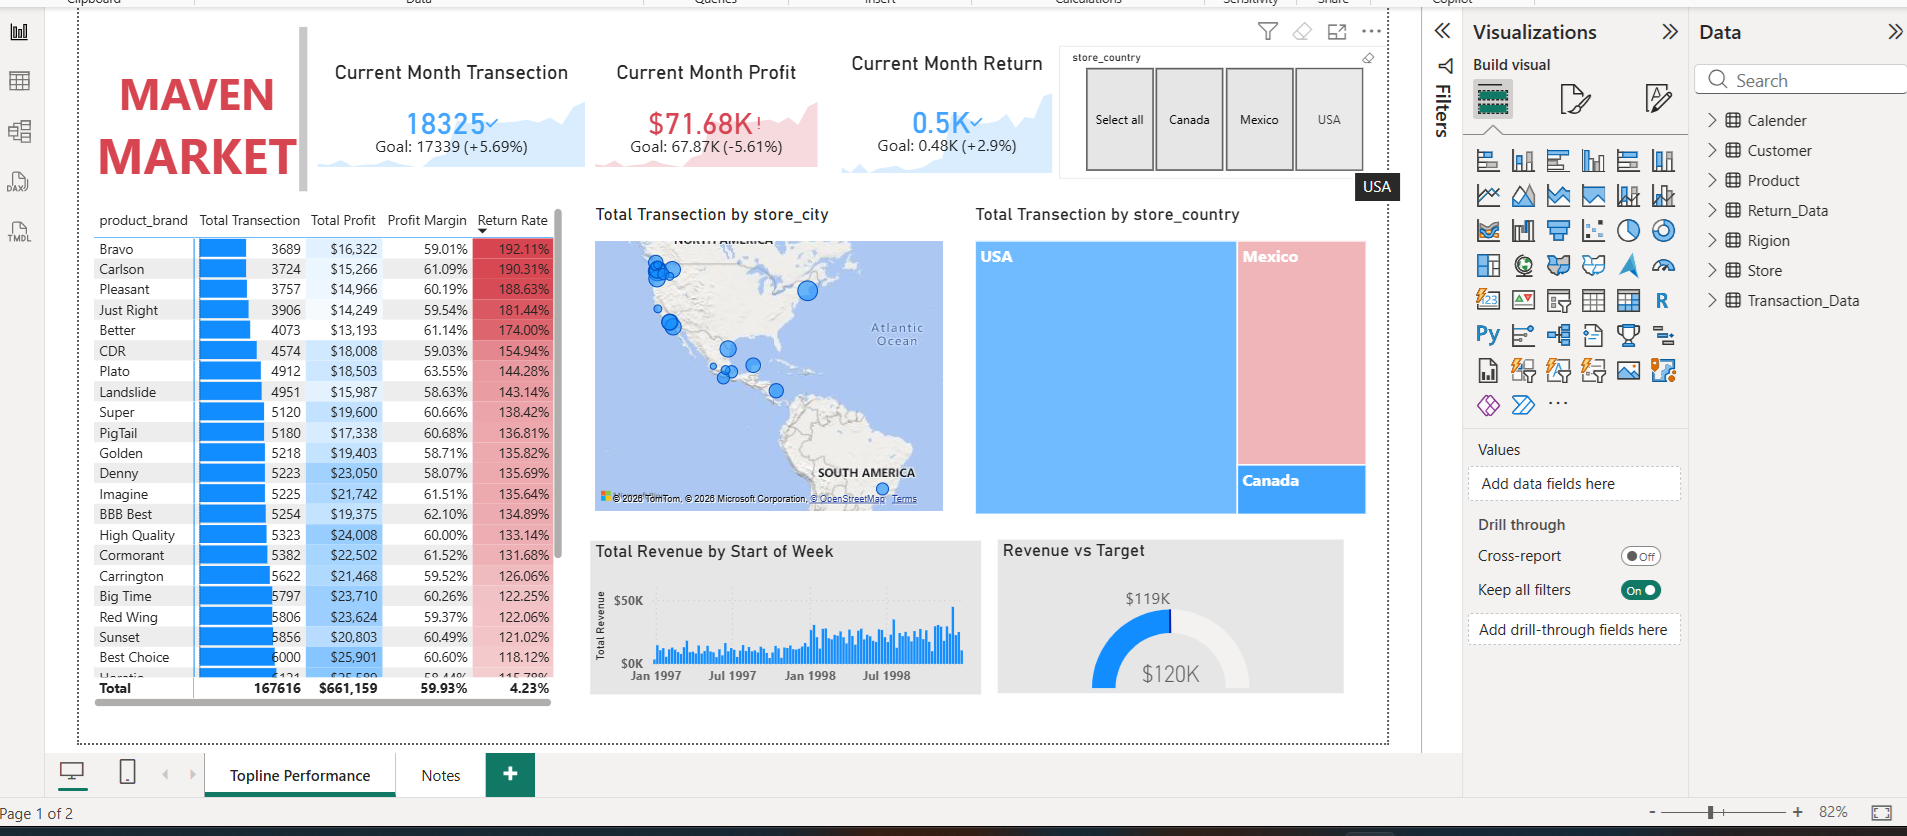

What the dashboard file says about the page in this screenshot:
{"tool":"powerbi","page":{"name":"Topline Performance","canvas":[1280,720],"ordinal":0},"visuals":[{"type":"pivotTable","fields":{"Rows":["Product.product_brand"],"Values":["Transaction_Data.Total Transection","Transaction_Data.Total Profit","Transaction_Data.Profit Margin","Transaction_Data.Return Rate"]},"box":[9.8,192,468.3,497.7],"z":0},{"type":"kpi","title":"Current Month Transection","fields":{"Goal":["Transaction_Data.Last Month Transection"],"Indicator":["Transaction_Data.Total Transection"],"TrendLine":["Calender.Start of Month"]},"box":[228.7,52.6,271.5,108.8],"z":1000},{"type":"kpi","title":"Current Month Profit","fields":{"Goal":["Transaction_Data.Last Month Profit"],"Indicator":["Transaction_Data.Total Profit"],"TrendLine":["Calender.Start of Month"]},"box":[500.1,52.6,227.4,108.8],"z":2000},{"type":"kpi","title":"Current Month Return","fields":{"Goal":["Transaction_Data.Last Month Returns"],"Indicator":["Return_Data.Total Returns"],"TrendLine":["Calender.Start of Month"]},"box":[741,44,216.4,123.5],"z":3000},{"type":"map","fields":{"Category":["Store.store_city"],"Size":["Transaction_Data.Total Transection"]},"box":[500.1,192,349.7,305.7],"z":4000},{"type":"slicer","fields":{"Values":["Store.store_country"]},"box":[958.7,37.9,321.6,129.6],"z":5000},{"type":"treemap","fields":{"Group":["Store.store_country","Store.store_state","Store.store_city"],"Values":["Transaction_Data.Total Transection"]},"box":[871.9,192,392.5,309.4],"z":6000},{"type":"clusteredColumnChart","fields":{"Category":["Calender.Start of Week"],"Y":["Transaction_Data.Total Revenue"]},"box":[500.1,522.1,382.7,150.4],"z":7000},{"type":"gauge","title":"Revenue vs Target","fields":{"TargetValue":["Transaction_Data.Revenue Target"],"Y":["Transaction_Data.Total Revenue"]},"box":[898.8,521.4,338.7,150.4],"z":8000},{"type":"textbox","box":[9.8,14.7,218.9,177.3],"z":8001}]}

Visuals, with their boxes on the page's 1280x720 design canvas (x1, y1, x2, y2). These are canvas units, not pixel positions in the 1907x836 screenshot, which may show the page scaled, cropped or inside an application window:
pivotTable - Product.product_brand x Transaction_Data.Total Transection: (left=10, top=192, right=478, bottom=690)
"Current Month Transection" kpi: (left=229, top=53, right=500, bottom=161)
"Current Month Profit" kpi: (left=500, top=53, right=728, bottom=161)
"Current Month Return" kpi: (left=741, top=44, right=957, bottom=168)
map - Store.store_city x Transaction_Data.Total Transection: (left=500, top=192, right=850, bottom=498)
slicer - Store.store_country: (left=959, top=38, right=1280, bottom=168)
treemap - Store.store_country x Store.store_state: (left=872, top=192, right=1264, bottom=501)
clusteredColumnChart - Calender.Start of Week x Transaction_Data.Total Revenue: (left=500, top=522, right=883, bottom=672)
"Revenue vs Target" gauge: (left=899, top=521, right=1238, bottom=672)
textbox: (left=10, top=15, right=229, bottom=192)
